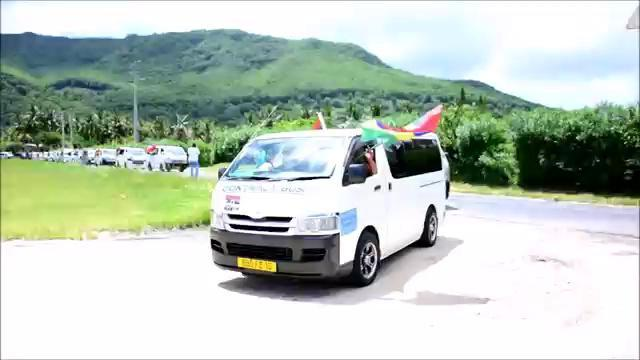Van: (207, 113, 451, 286)
